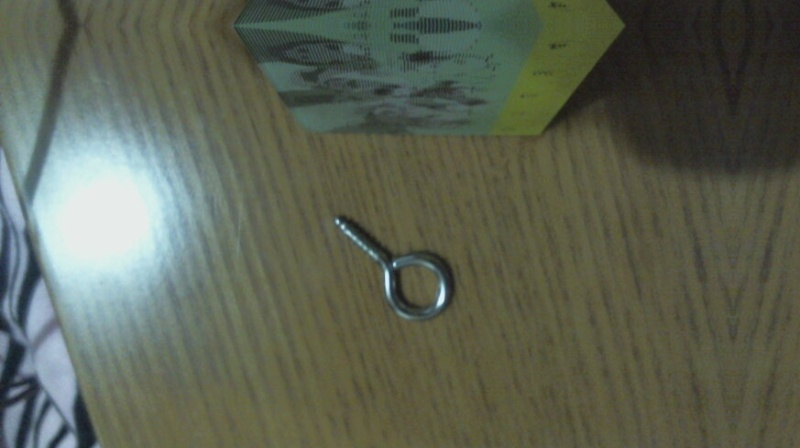O001: (329, 210, 457, 324)
